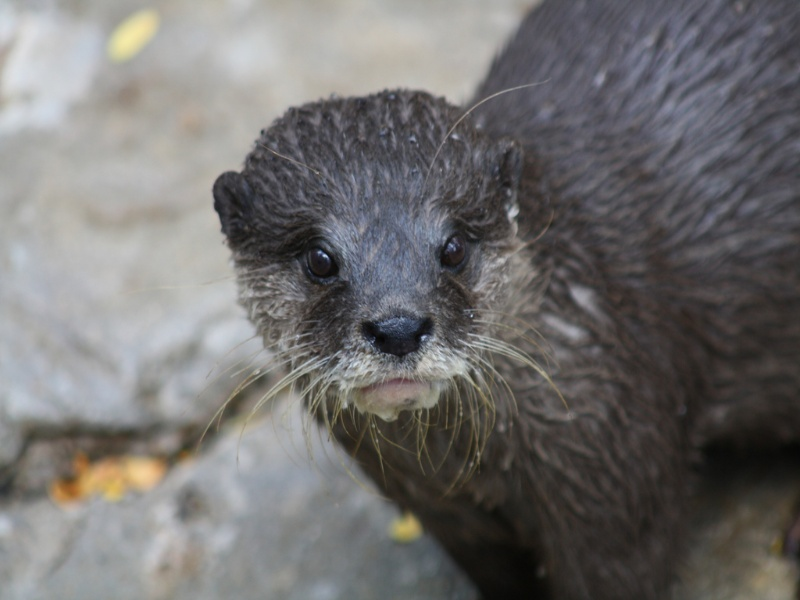minkish: (204, 8, 790, 596)
